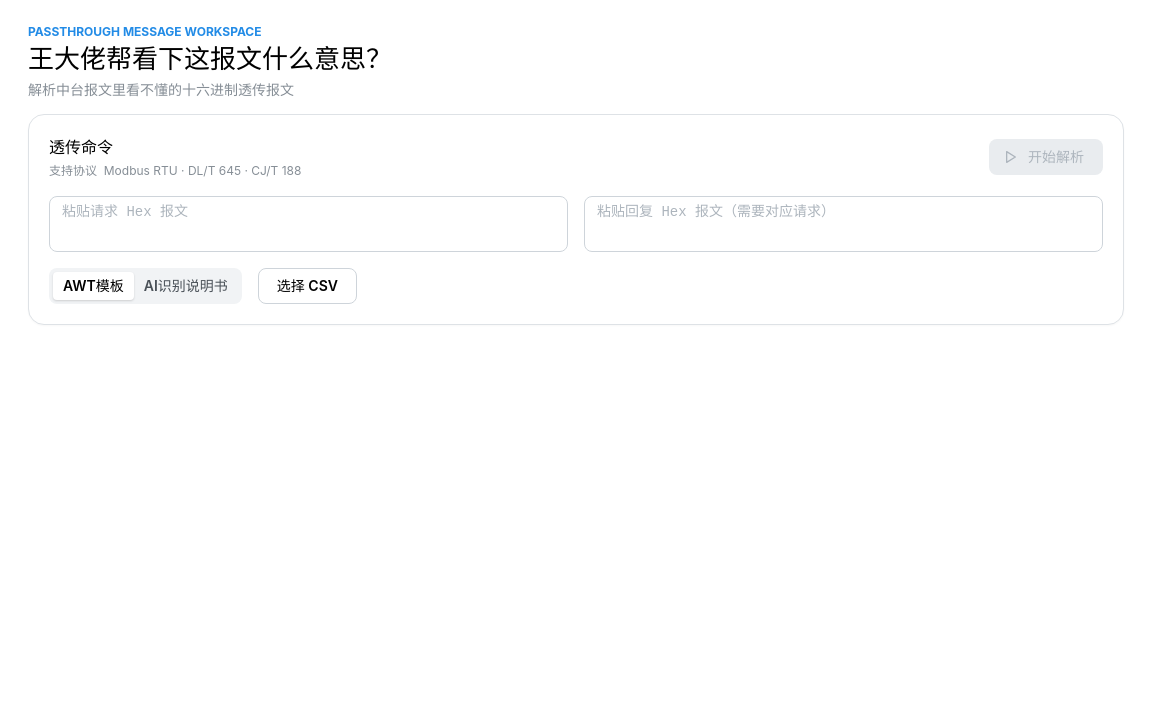
Test: PassthroughWorkspace › rejects more response frames than request frames before invoking the backend
In the text box named "请求报文": coordinates (308, 224) [49,196,568,252], type "0103016D001255E6"
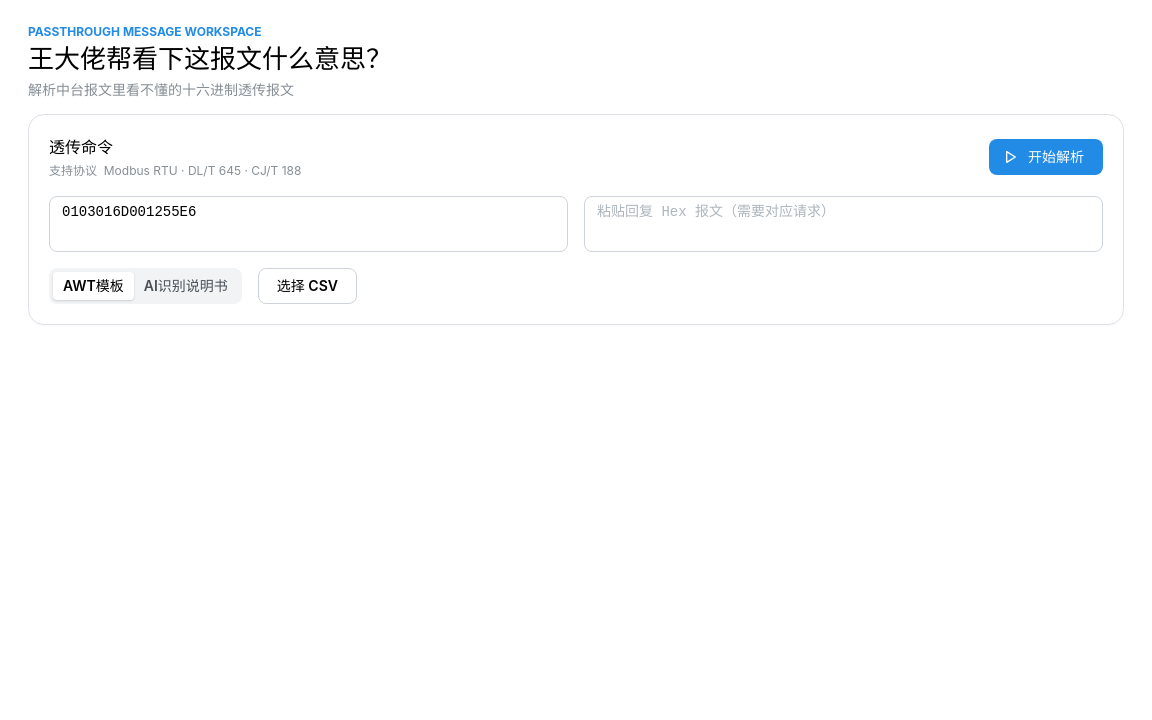
In the text box named "回复报文": coordinates (844, 224) [584,196,1103,252], type "01030400010002AA&&01030400030004BB"
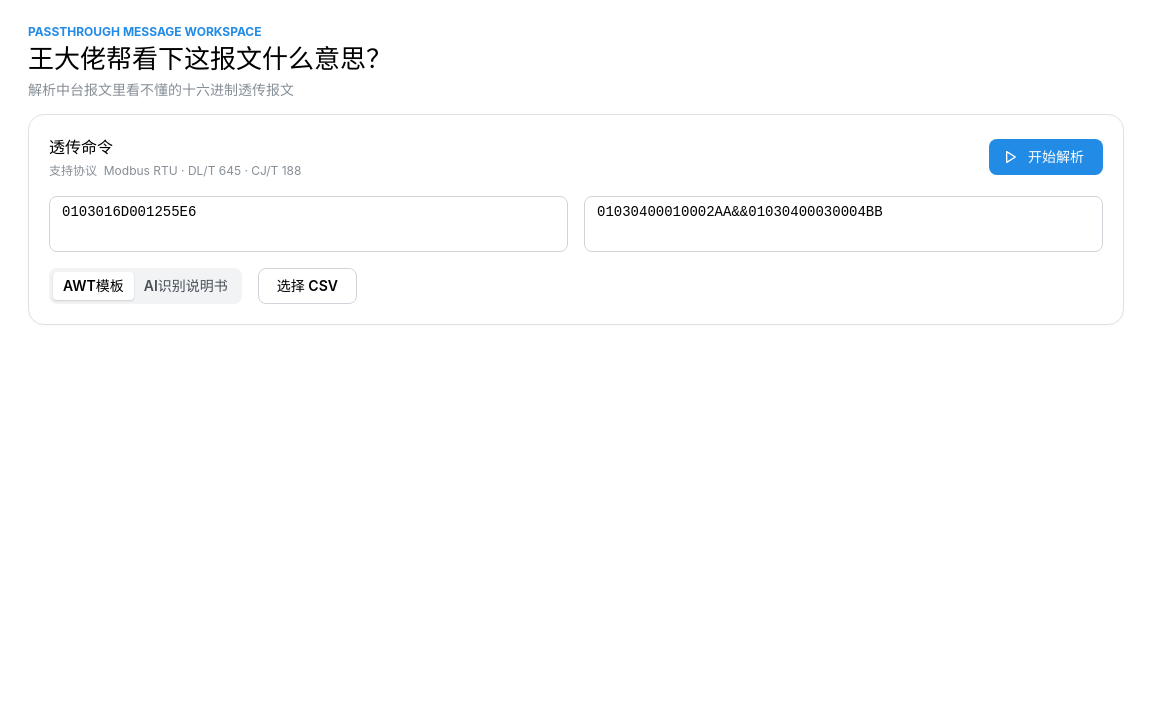
Click the button "开始解析": coordinates (1046, 158) [989,140,1103,176]
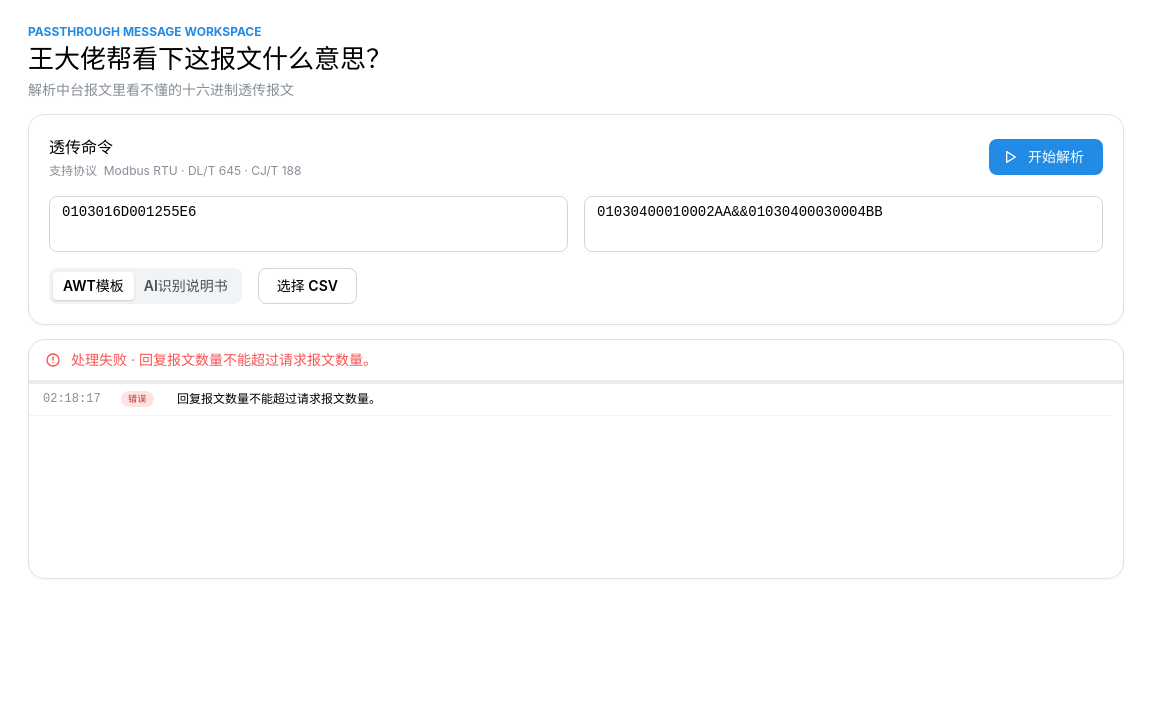
Check: the text "回复报文数量不能超过请求报文数量。" is shown, box [177,392,381,406]
